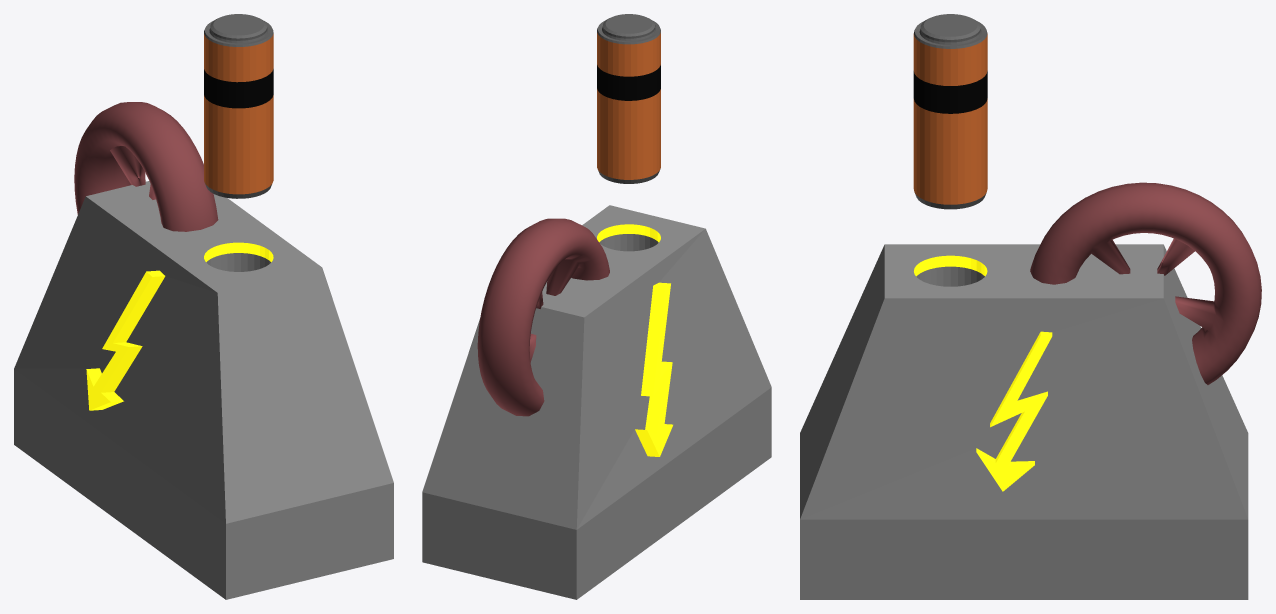
Rendered from ElectricBox.glb.
3 views of the same model, side by side, from view 1: azimuth 30°, elevation 25°; view 2: azimuth 150°, elevation 25°; view 3: azimuth 270°, elevation 25° (orthographic). The views are drawn at different scales.
Parts seen in each view (by area): view 1: Cube, Cylinder, Torus; view 2: Cube, Torus, Cylinder; view 3: Cube, Torus, Cylinder.
Part boxes in pixels (x1,y1,x2,y2): Cube: [14, 181, 393, 599]; Cylinder: [204, 14, 273, 198]; Torus: [74, 102, 218, 231]; Cube: [422, 205, 771, 599]; Torus: [477, 218, 609, 416]; Cylinder: [597, 14, 660, 183]; Cube: [800, 244, 1248, 599]; Torus: [1030, 182, 1261, 384]; Cylinder: [913, 14, 987, 209].
Bounding box in the file's own units: 0.9957 × 2.62 × 2.06.
